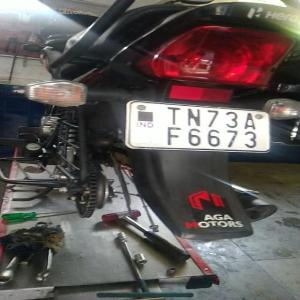Plate: (136, 101, 267, 152)
